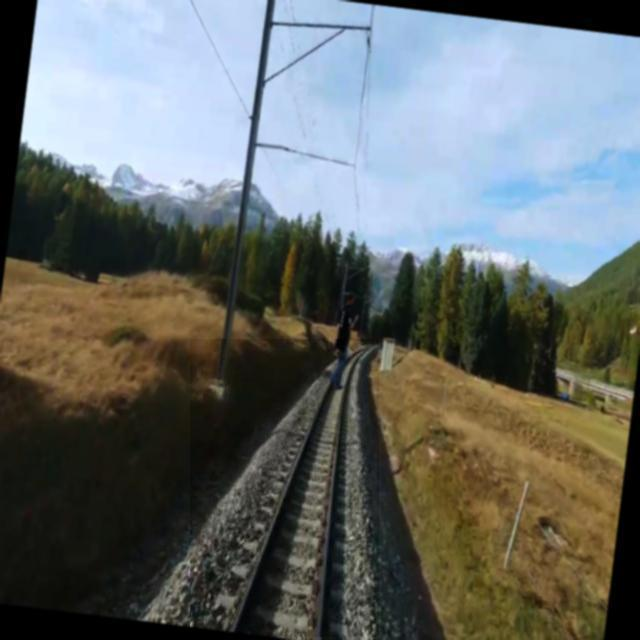rail: (192, 340, 380, 638)
